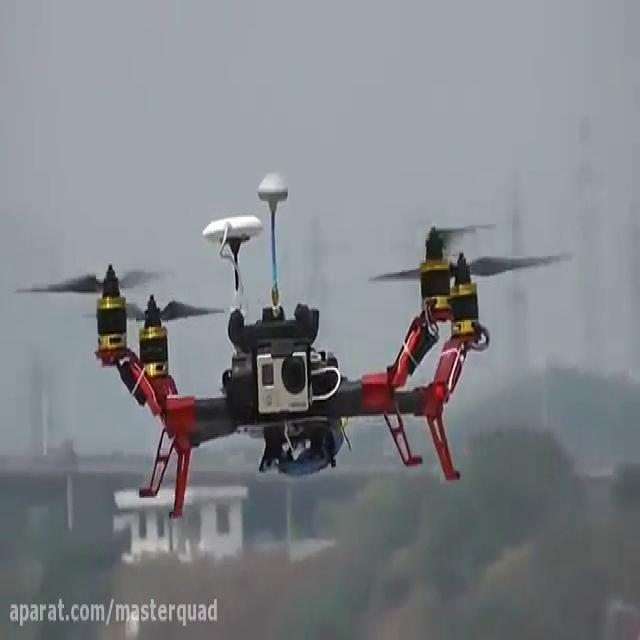drone: (0, 167, 577, 523)
